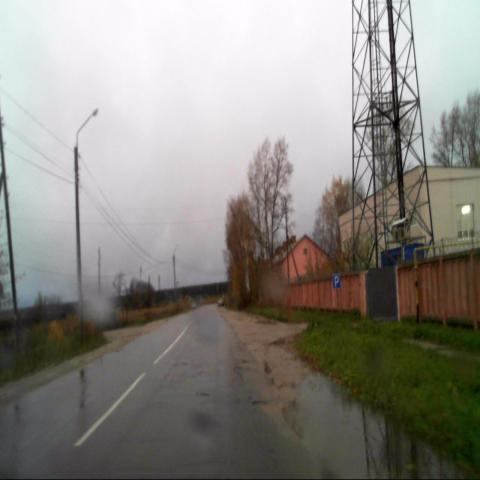6_4: (332, 272, 341, 288)
